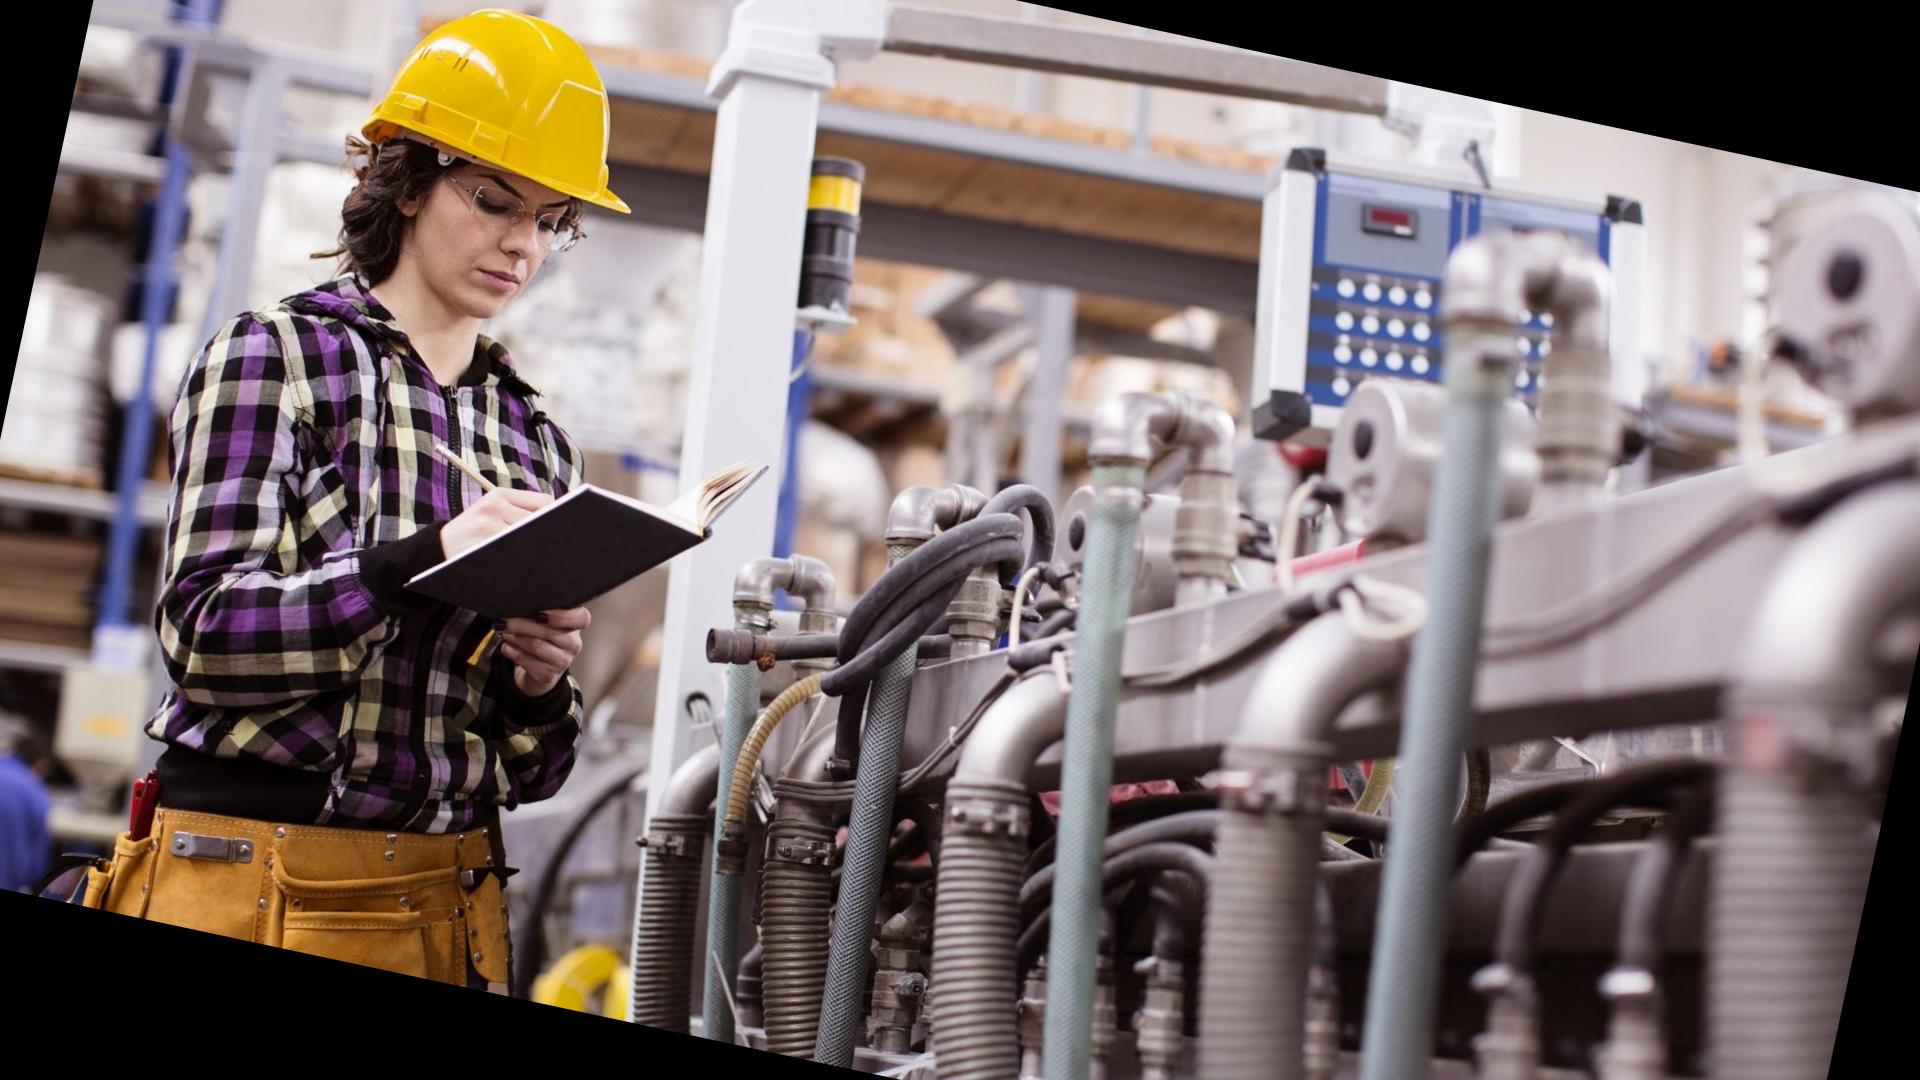helmet: (352, 0, 671, 219)
no_wear: (116, 286, 596, 839)
wear: (0, 748, 65, 895)
